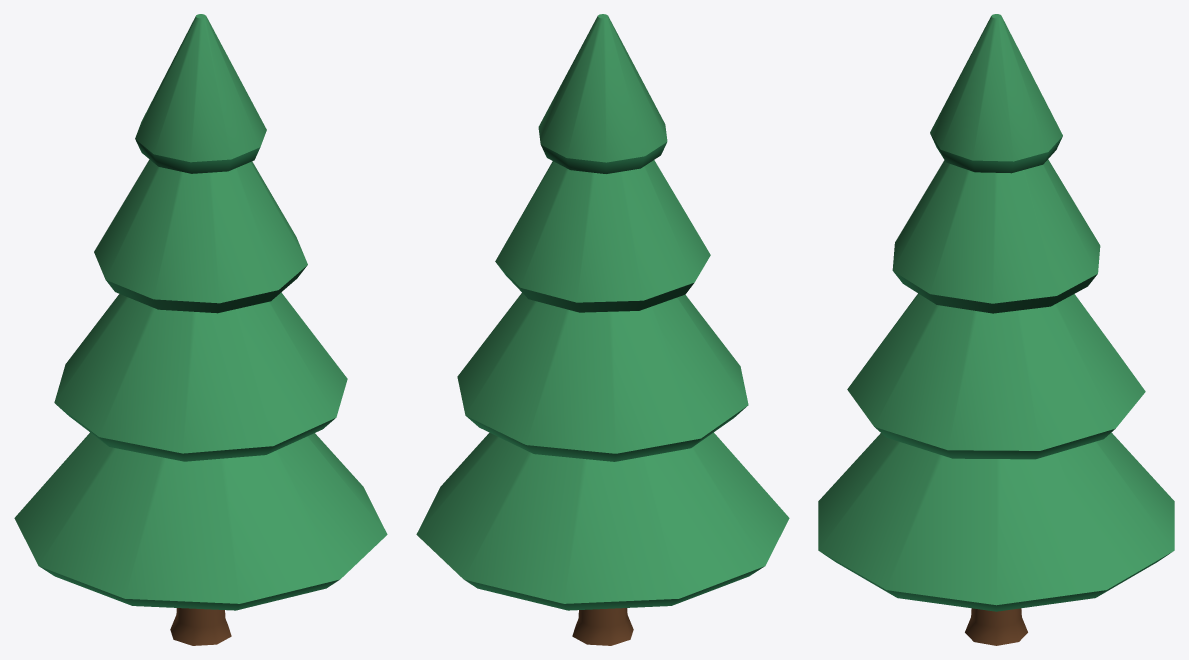
File: mint-deco2.glb
3 views of the same model, side by side, from view 1: azimuth 30°, elevation 25°; view 2: azimuth 150°, elevation 25°; view 3: azimuth 270°, elevation 25° (orthographic).
Visible parts, largest first — view 1: mint-deco2; view 2: mint-deco2; view 3: mint-deco2.
Boxes of the visible parts, bbox=[...] form: mint-deco2: bbox=[14, 14, 387, 645]; mint-deco2: bbox=[416, 14, 789, 645]; mint-deco2: bbox=[818, 14, 1174, 645].
Bounding box in the file's own units: 2.36 × 4.28 × 2.24.
